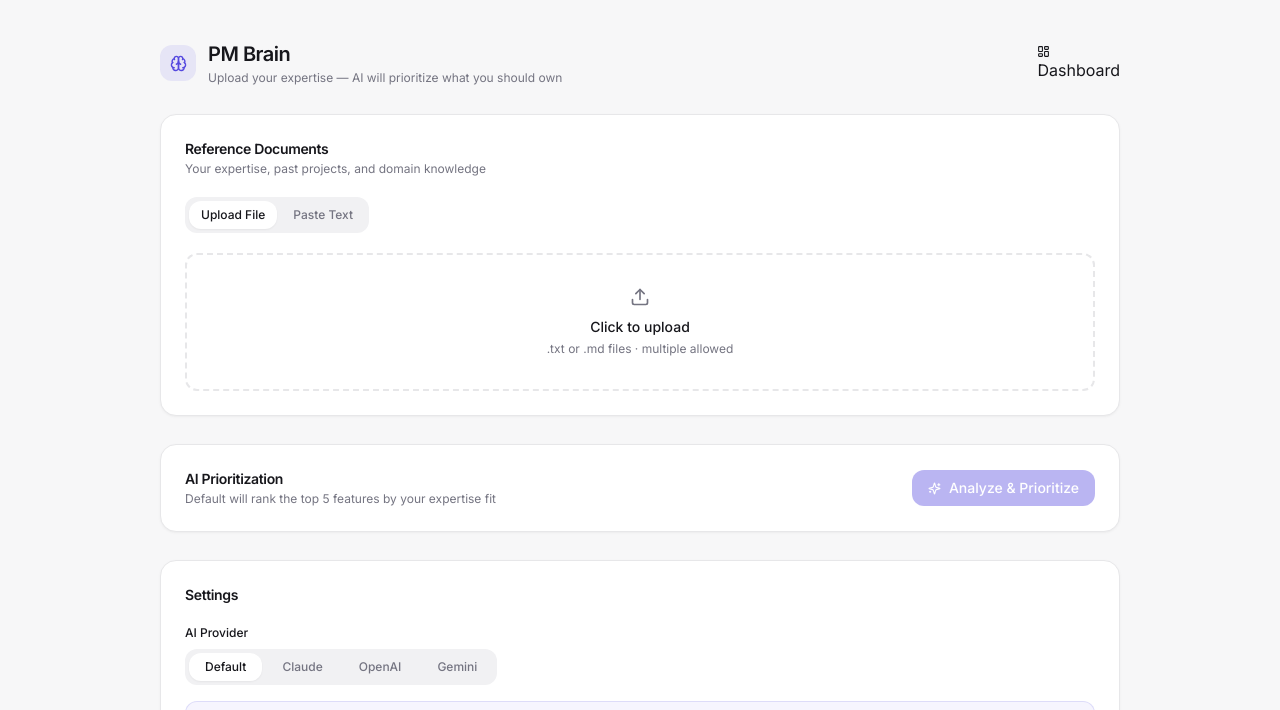
PM Brain Page › switches between Upload and Paste tabs
Expected: the text "Click to upload" is shown, [590,318,690,335]
What coordinates should you click on to do the following:
click the button "Paste Text"
I would click on:
 (323, 215)
Its box is [281,201,365,229].
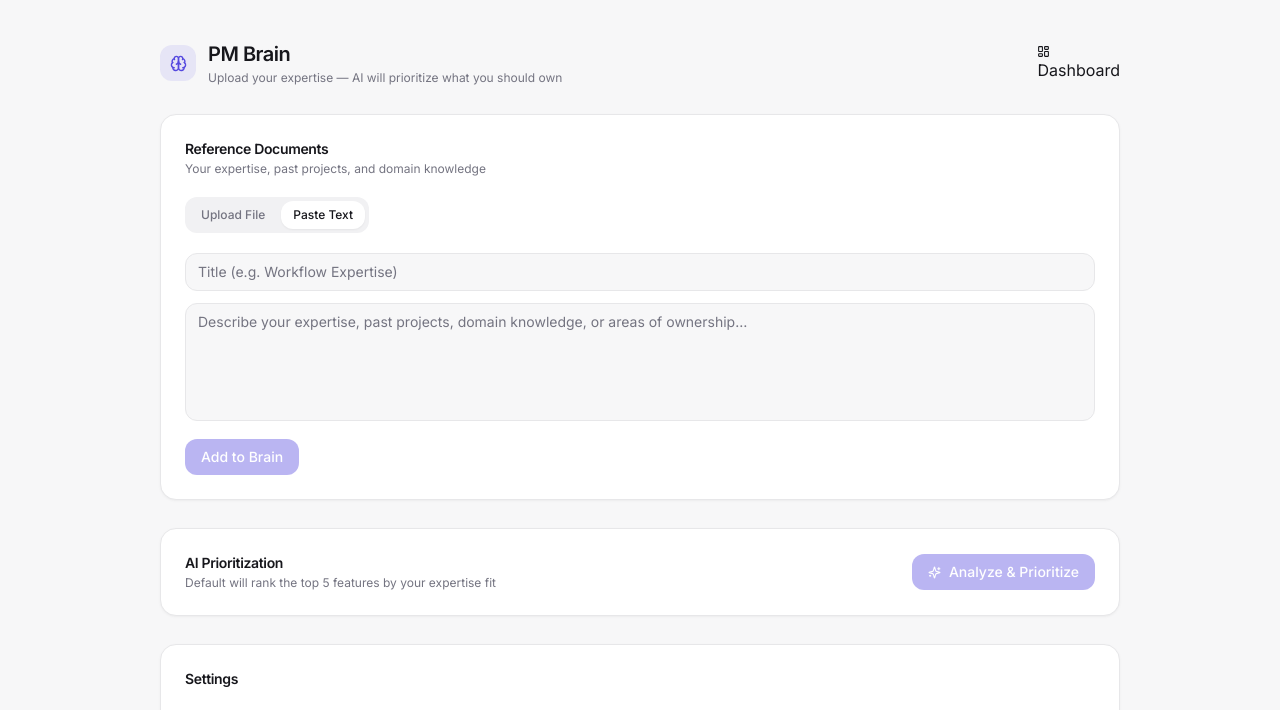
Expected: the field with placeholder "Title (e.g. Workflow Expertise)" is shown, [185,253,1095,291]
What coordinates should you click on to do the following:
click the button "Upload File"
I would click on:
 (233, 215)
Its box is [189,201,277,229].
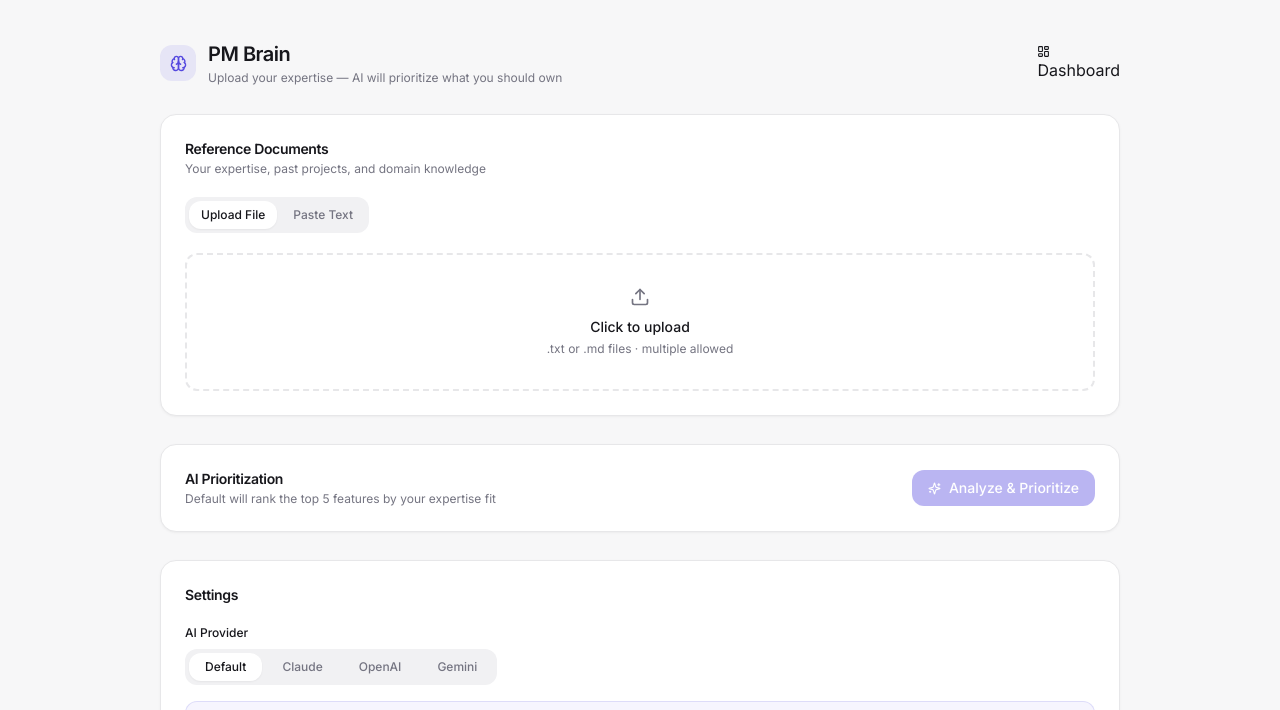
Expected: the text "Click to upload" is shown, [590,318,690,335]
